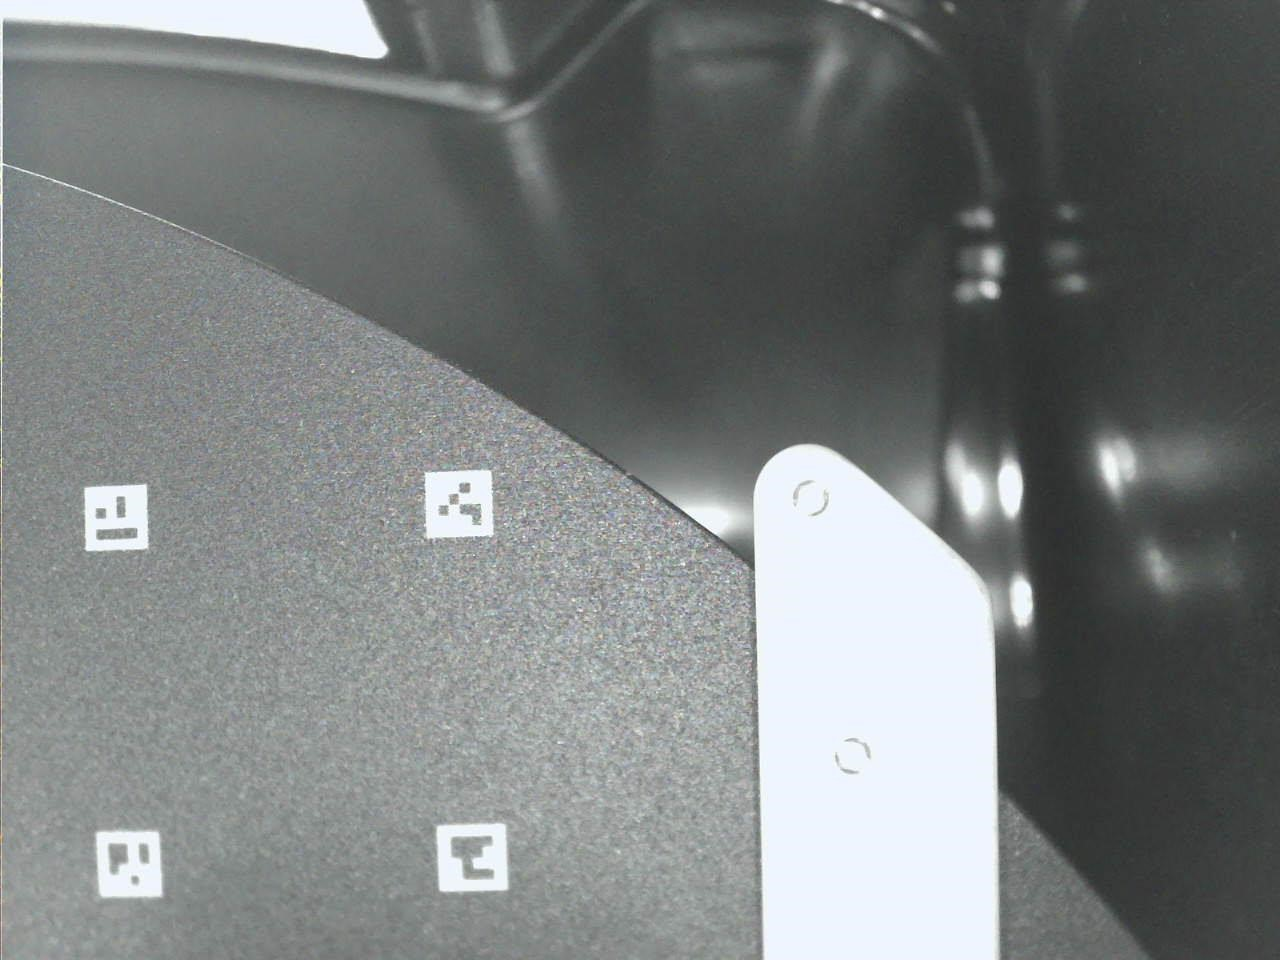forktip: (736, 421, 1023, 960)
